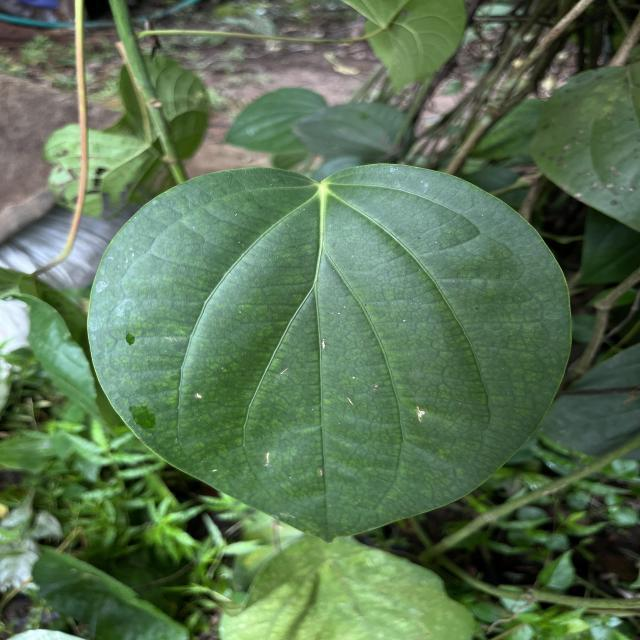Piper nigrum: (87, 162, 568, 542)
